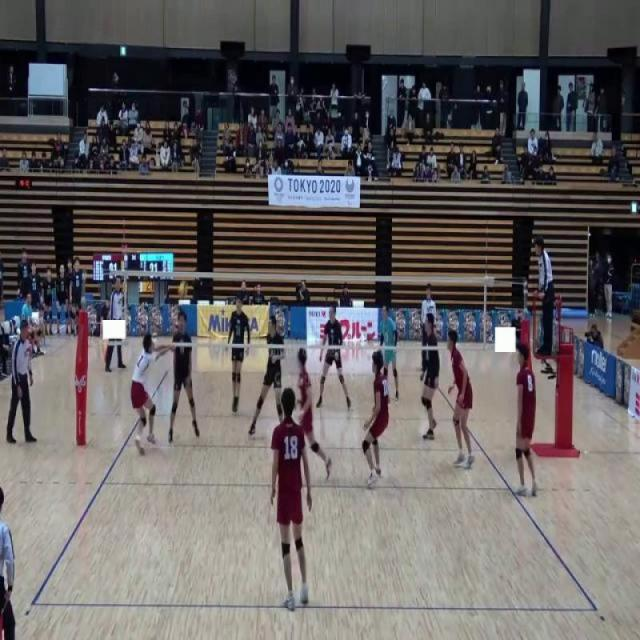volleyball: (178, 280, 188, 300)
